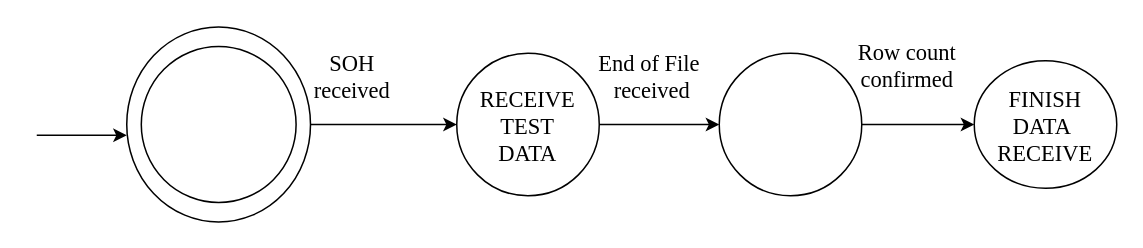
Image size: 1143x248. Some labels were removed from this diagram. Here are the shapes that lost their labels. From the top down, the centre of each, then its label:
(x=218, y=123): HANDSHAKE
(x=790, y=124): CONFIRM TEST DATA
